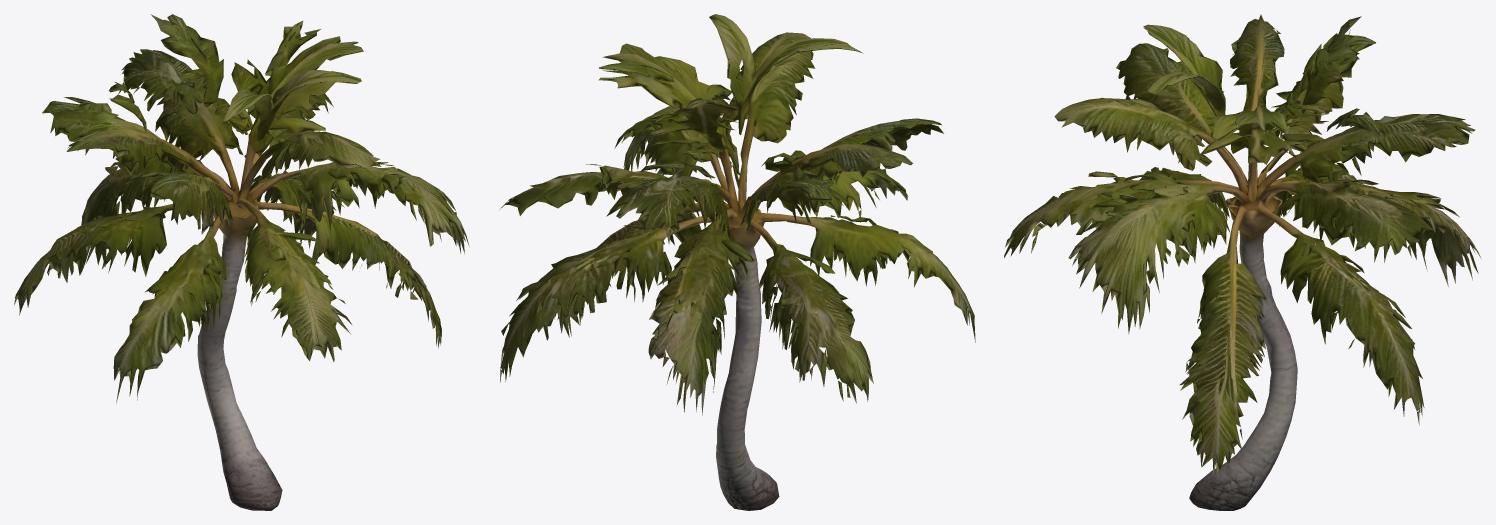
The model's file is coconut.glb.
3 views of the same model, side by side, from view 1: azimuth 30°, elevation 25°; view 2: azimuth 150°, elevation 25°; view 3: azimuth 270°, elevation 25° (orthographic). The views are drawn at different scales.
Visible parts, largest first — view 1: tripo_node_fe8c5dee-e440-499a-8f92-5c5a323a3897; view 2: tripo_node_fe8c5dee-e440-499a-8f92-5c5a323a3897; view 3: tripo_node_fe8c5dee-e440-499a-8f92-5c5a323a3897.
Boxes of the visible parts, left/top/right/bottom form: tripo_node_fe8c5dee-e440-499a-8f92-5c5a323a3897: left=14, top=14, right=469, bottom=510; tripo_node_fe8c5dee-e440-499a-8f92-5c5a323a3897: left=499, top=14, right=975, bottom=510; tripo_node_fe8c5dee-e440-499a-8f92-5c5a323a3897: left=1004, top=14, right=1481, bottom=510.
Bounding box in the file's own units: 10.09 × 12 × 11.1.
1 material, 1 textured.
